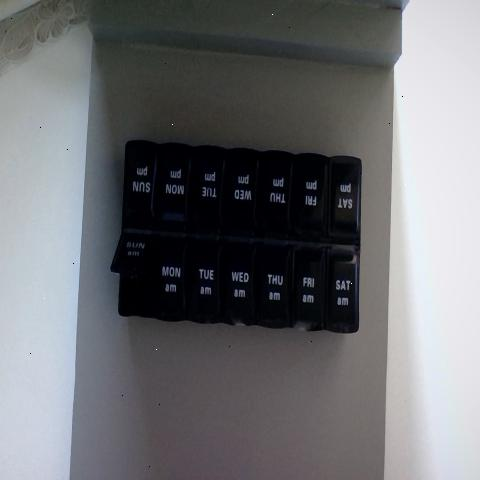FRI-am: (294, 251, 322, 328)
FRI-pm: (294, 154, 325, 234)
MON-am: (156, 235, 190, 316)
MON-pm: (158, 150, 194, 233)
Open: (109, 239, 156, 313)
PillBox: (101, 111, 376, 344)
SAT-am: (324, 252, 359, 334)
SAT-pm: (326, 157, 360, 240)
SUN-pm: (124, 144, 156, 230)
THU-am: (257, 241, 290, 323)
THU-pm: (262, 149, 296, 236)
TUE-am: (194, 241, 226, 319)
TUE-pm: (195, 146, 226, 227)
WED-am: (225, 242, 256, 324)
WED-pm: (228, 155, 264, 233)
